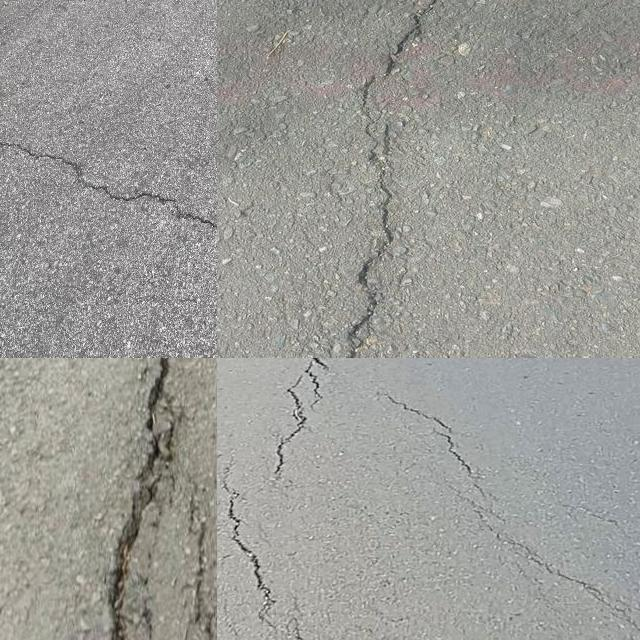Melintang: (0, 124, 217, 244)
Memanjang: (335, 0, 449, 358), (91, 358, 190, 640), (217, 468, 323, 640), (270, 358, 330, 485)
